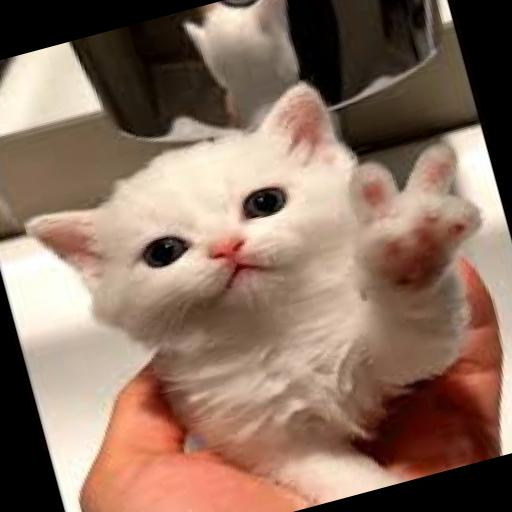Peace: (315, 123, 512, 328), (461, 258, 473, 273)
